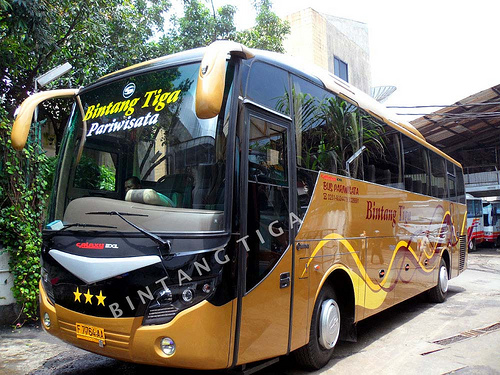plate: (74, 322, 102, 339)
